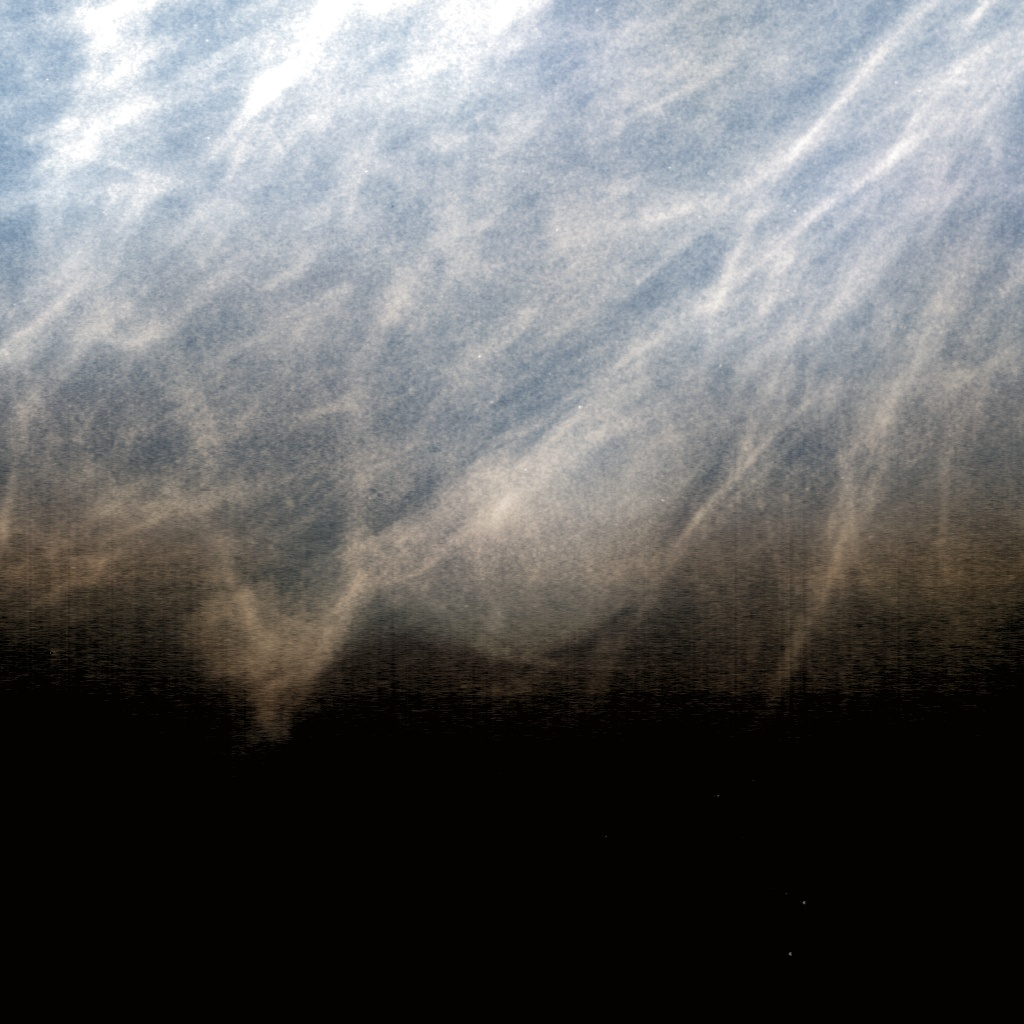tumor: (399, 405, 625, 619)
